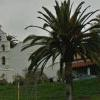Palm tree: (27, 0, 91, 97)
